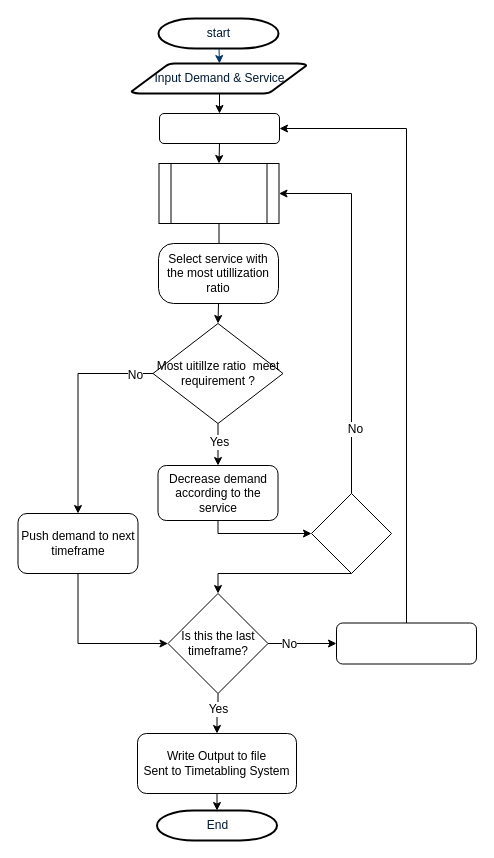
Image size: 494x858. Some labels were removed from this diagram. Each missing label, with the box of its shape:
Calculate utillization percent with all services: (158, 162, 279, 224)
Demand empty?: (310, 492, 392, 574)
Move to next Timeframe: (336, 622, 476, 664)
Select Timeframe: (158, 112, 280, 144)
